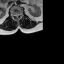CCS_normal: (16, 12, 17, 18)
LFS_stenosis: (19, 12, 20, 16)
LLS_normal: (17, 12, 19, 17)
RFS_normal: (13, 12, 15, 17)
RLS_normal: (15, 12, 16, 17)
